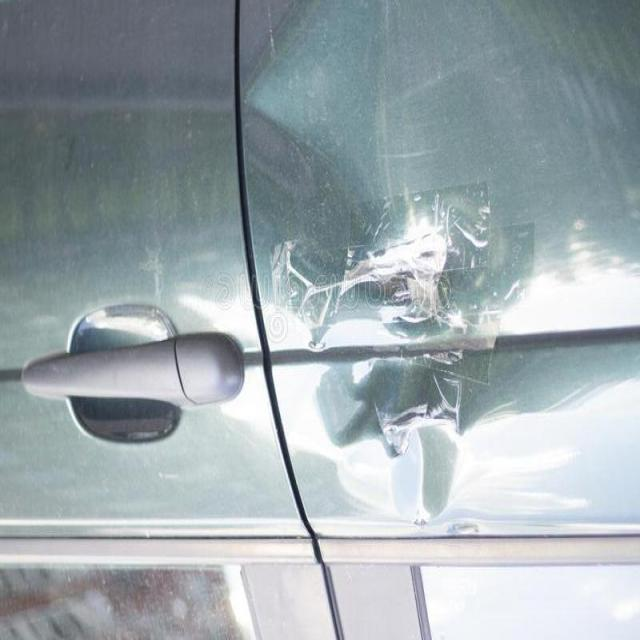dent: (281, 193, 497, 508)
